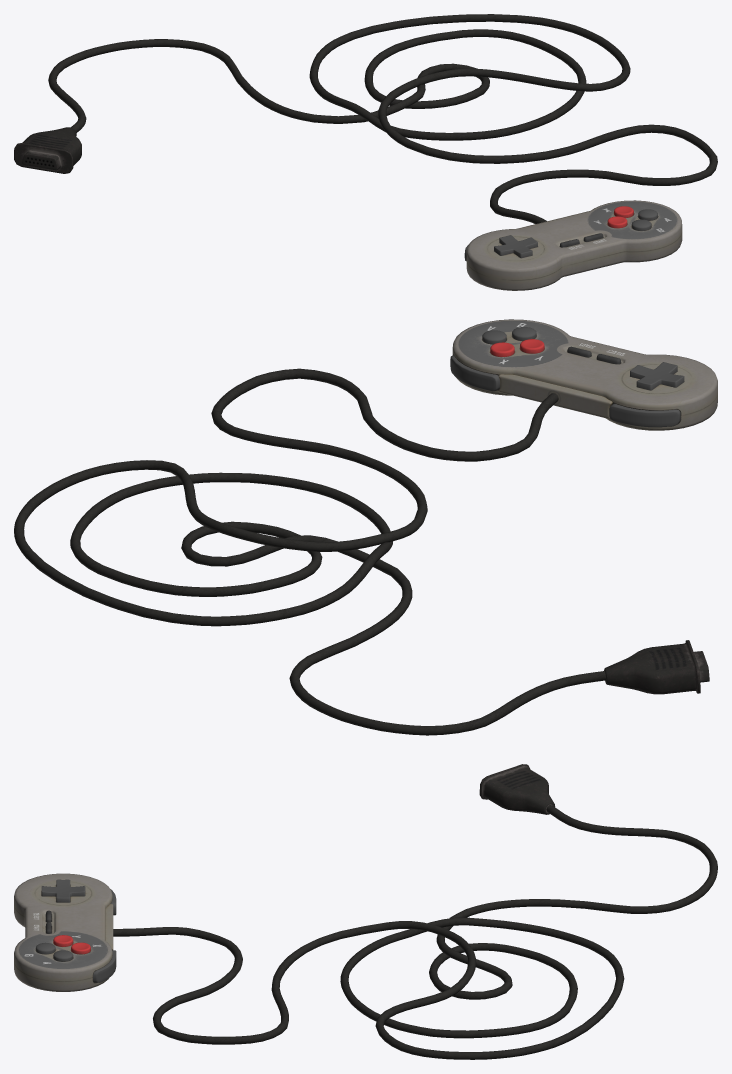
The model's file is gamepad_1k.obj.
3 views of the same model, one above another, from view 1: azimuth 30°, elevation 25°; view 2: azimuth 150°, elevation 25°; view 3: azimuth 270°, elevation 25° (orthographic). The views are drawn at different scales.
Parts seen in each view (by area): view 1: gamepad; view 2: gamepad; view 3: gamepad.
Part boxes in pixels (bbox=[...]): gamepad: bbox=[14, 14, 717, 290]; gamepad: bbox=[14, 319, 717, 735]; gamepad: bbox=[14, 764, 717, 1059].
Size of the model in its own units: 0.4041 by 0.0189 by 0.435.
